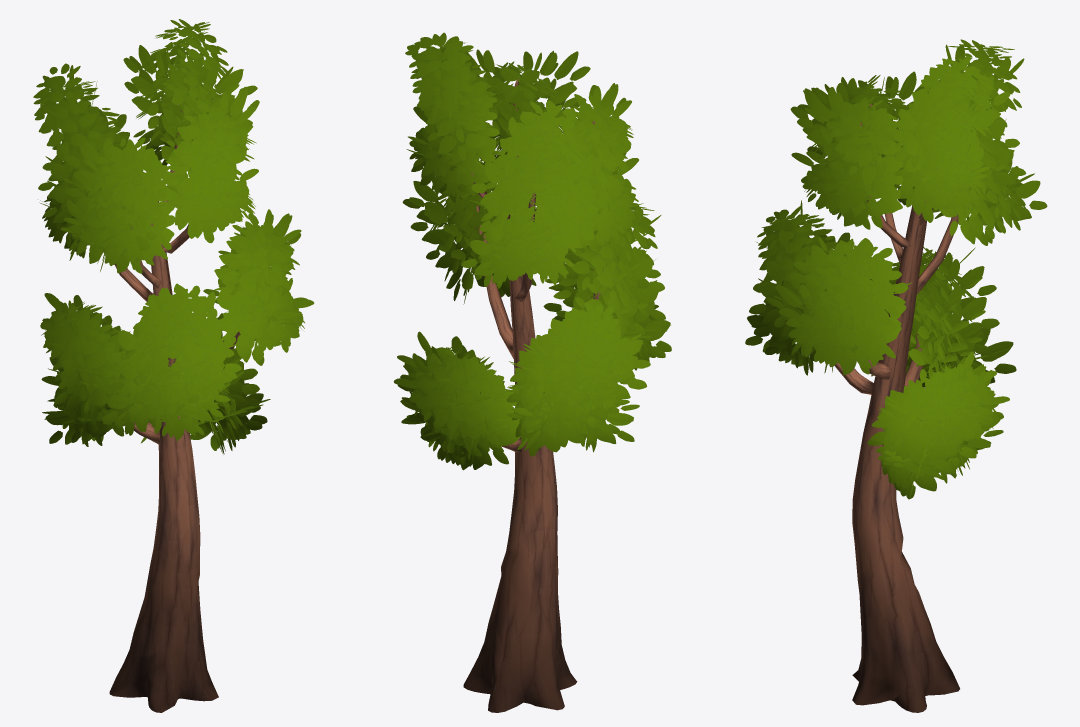
Rendered from CommonTree_3.glb.
3 views of the same model, side by side, from view 1: azimuth 30°, elevation 25°; view 2: azimuth 150°, elevation 25°; view 3: azimuth 270°, elevation 25° (orthographic). The views are drawn at different scales.
Visible parts, largest first — view 1: CommonTree_3; view 2: CommonTree_3; view 3: CommonTree_3.
Boxes of the visible parts, x1,y1,x2,y2 form: CommonTree_3: [33, 19, 314, 712]; CommonTree_3: [393, 32, 671, 712]; CommonTree_3: [745, 39, 1047, 712].
Size of the model in its own units: 4.06 by 9.13 by 4.24.
Materials: 2 (2 with a texture image).
